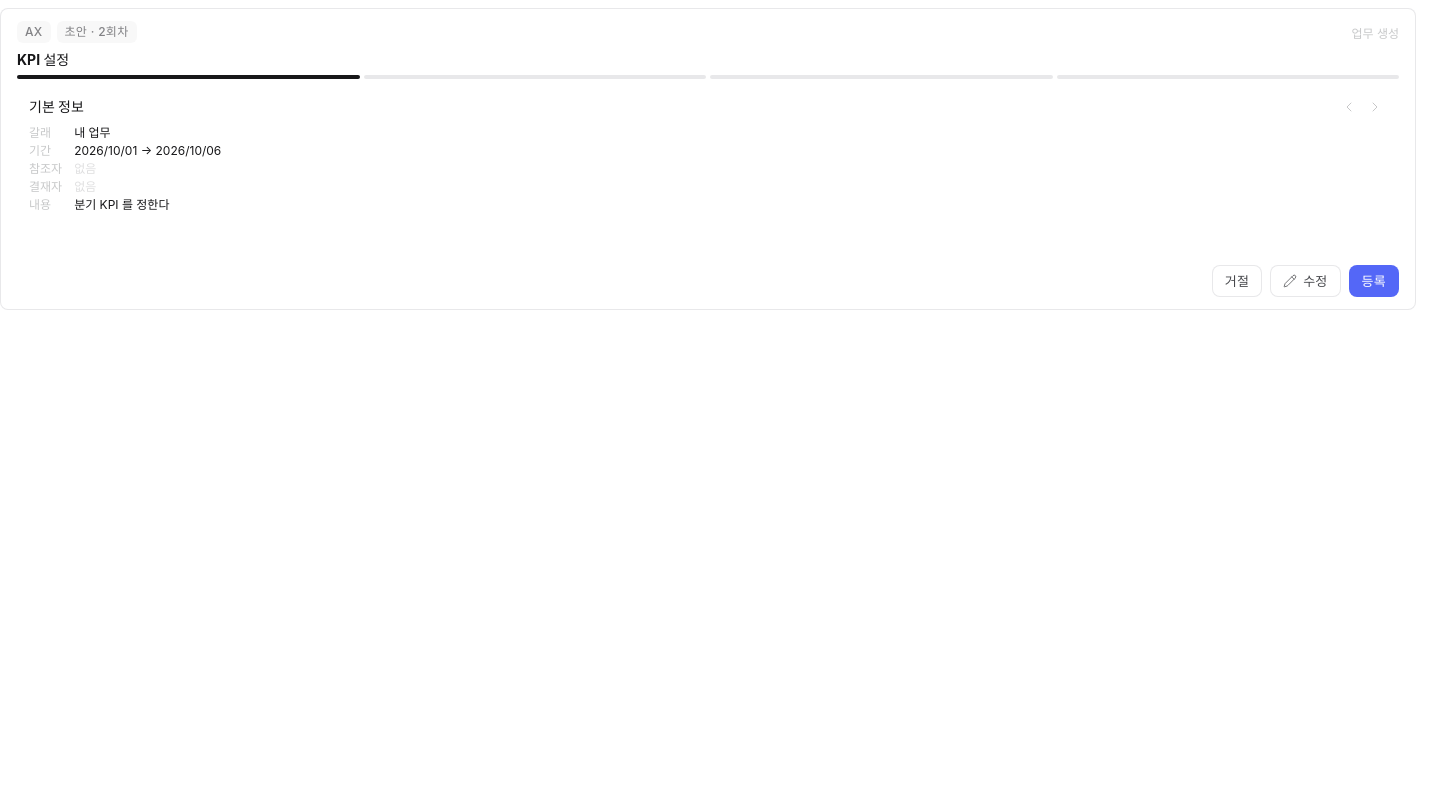
Test: 수정 창의 주 단추 = 「저장」 › 저장은 save_draft 하나만 부르고 confirm 을 부르지 않는다 — 고친 초안 전체와 지금 회차를 싣는다
The width and height of the screenshot is (1440, 810).
Click the button "수정": (1305, 281) [1270, 265, 1341, 297]
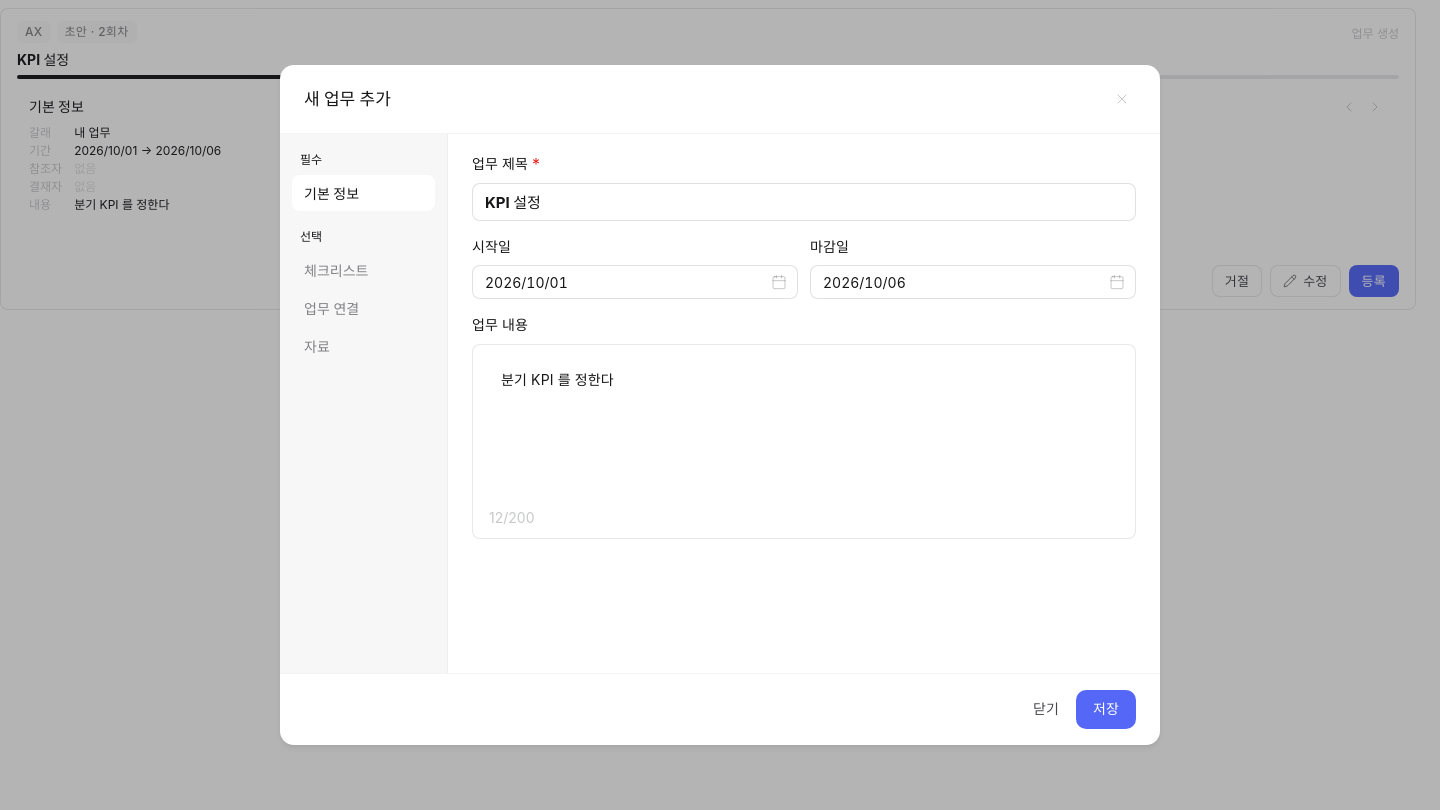
Replace the text in the field labelled "업무 제목" with "KPI 설정 (고침)": (804, 202) [472, 182, 1136, 220]
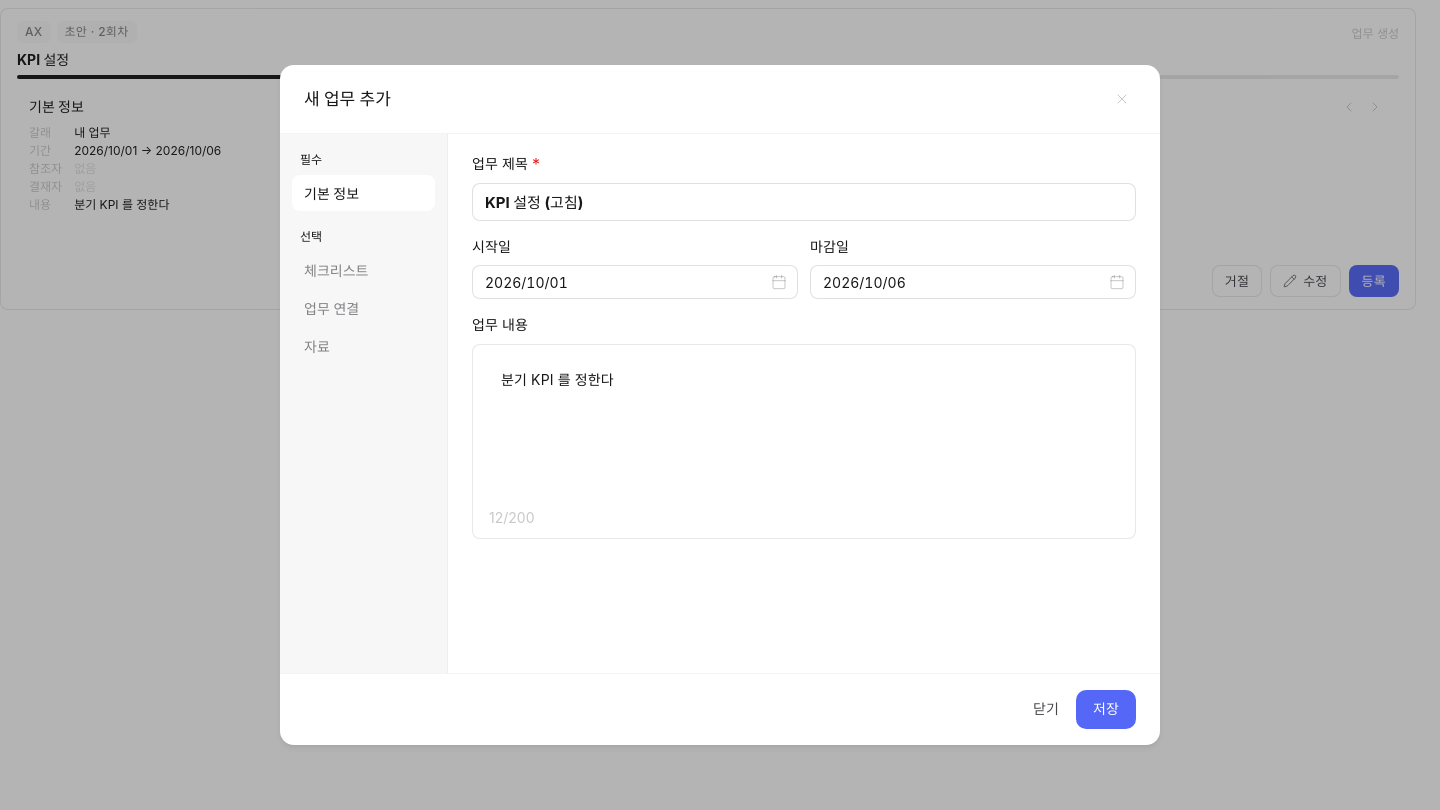
Click the button "저장": (1106, 710) [1076, 690, 1136, 729]
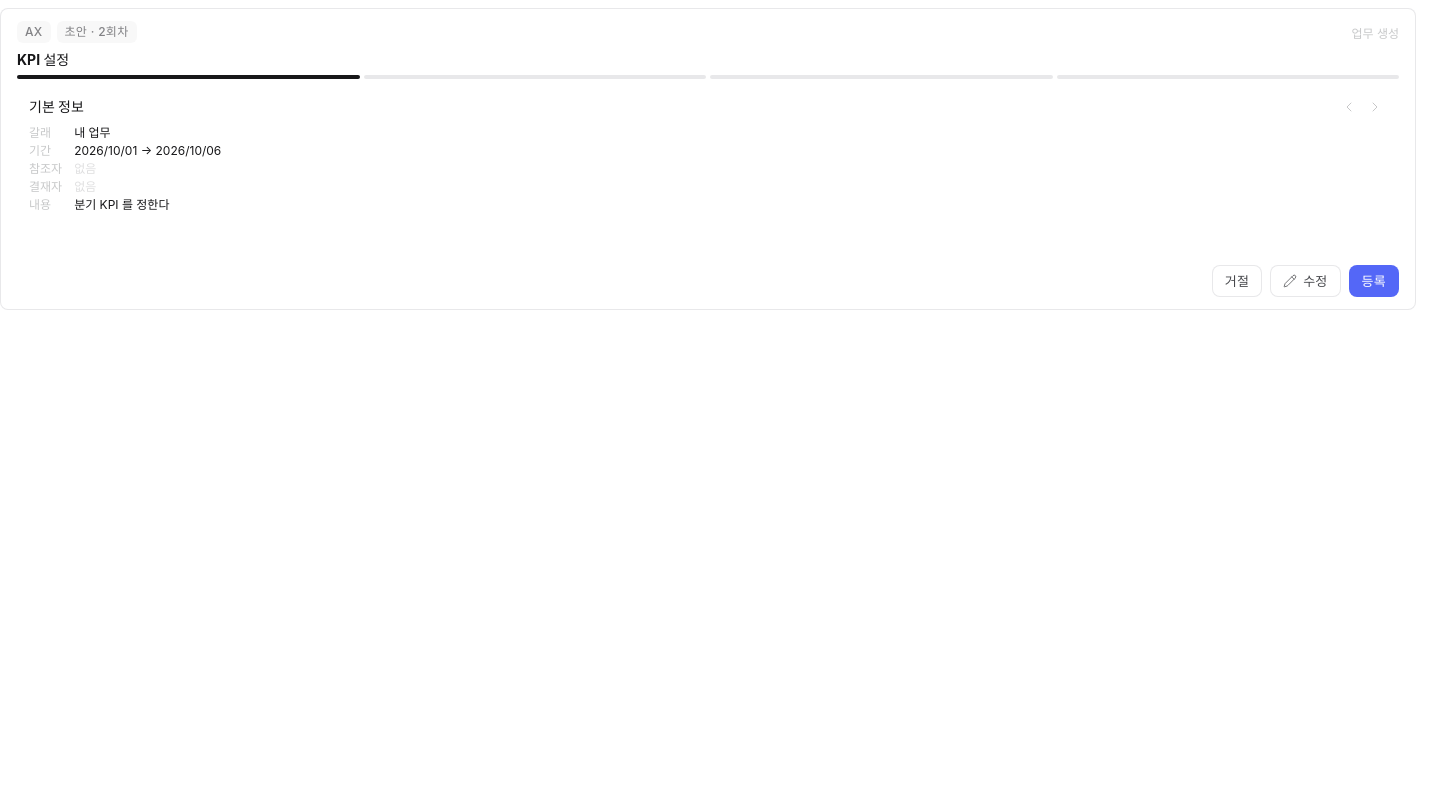
Expected: the heading "새 업무 추가" is gone
